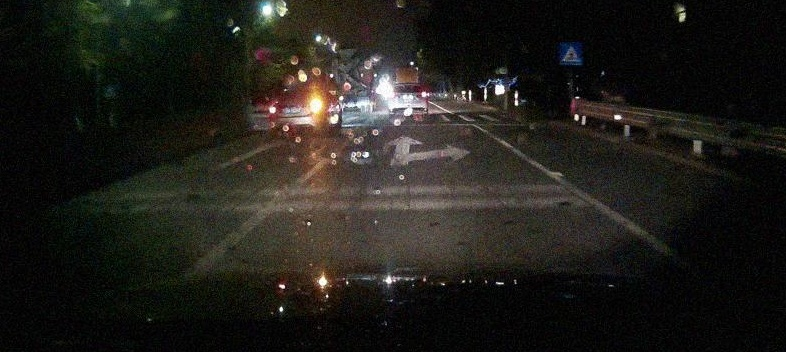L_light: (269, 106, 281, 114), (389, 93, 400, 98)
R_light: (303, 102, 322, 110), (416, 93, 426, 97)
T_light: (295, 92, 305, 95), (405, 85, 412, 87)
night-no: (388, 84, 428, 119)
night-right: (269, 89, 323, 136)
